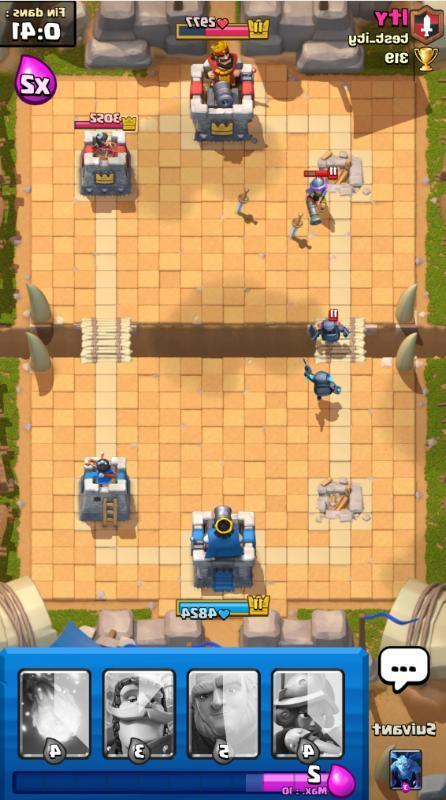enemy_mini_pekka: (305, 306, 352, 349)
enemy_musketeer: (292, 161, 343, 231)
player_mini_pekka: (297, 354, 342, 412)
